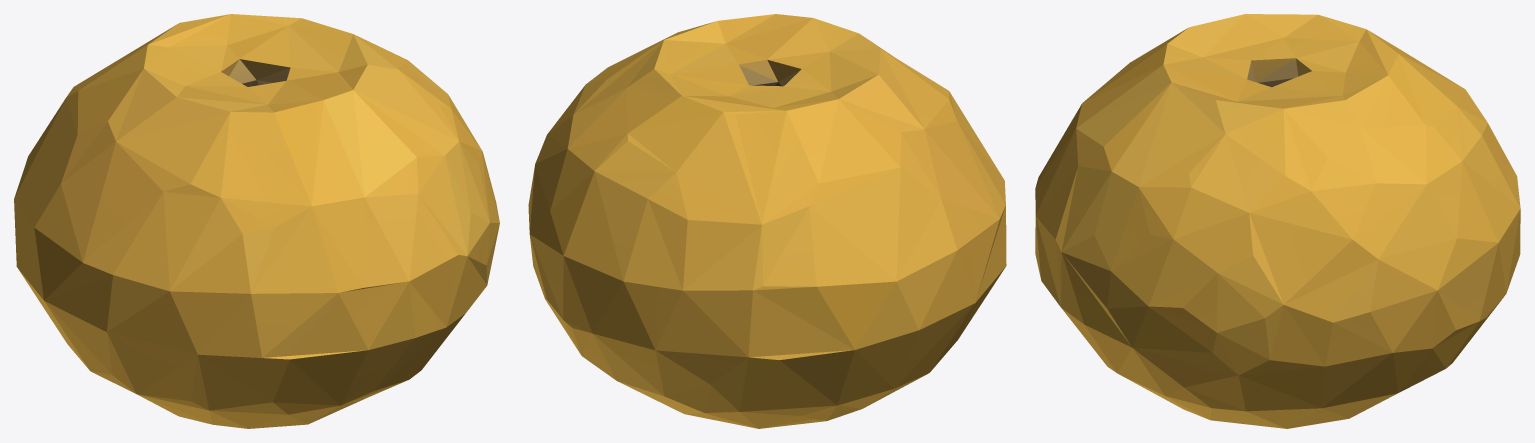
The model's file is bead.glb.
3 views of the same model, side by side, from view 1: azimuth 30°, elevation 25°; view 2: azimuth 150°, elevation 25°; view 3: azimuth 270°, elevation 25° (orthographic).
Visible parts, largest first — view 1: geometry_0; view 2: geometry_0; view 3: geometry_0.
Boxes of the visible parts, left/top/right/bottom form: geometry_0: left=14, top=14, right=499, bottom=428; geometry_0: left=528, top=14, right=1006, bottom=428; geometry_0: left=1035, top=14, right=1520, bottom=428.
Size of the model in its own units: 0.0825 by 0.06 by 0.0825.
1 material, 1 textured.
